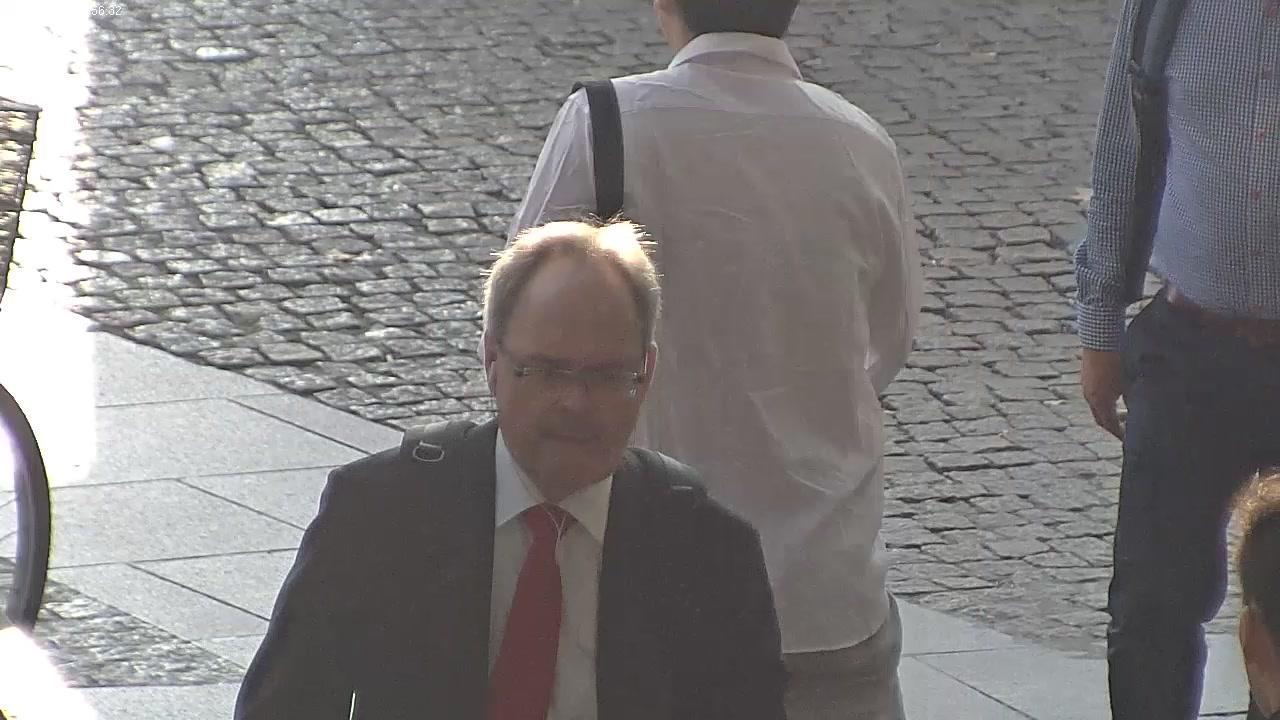face: (500, 251, 646, 483)
